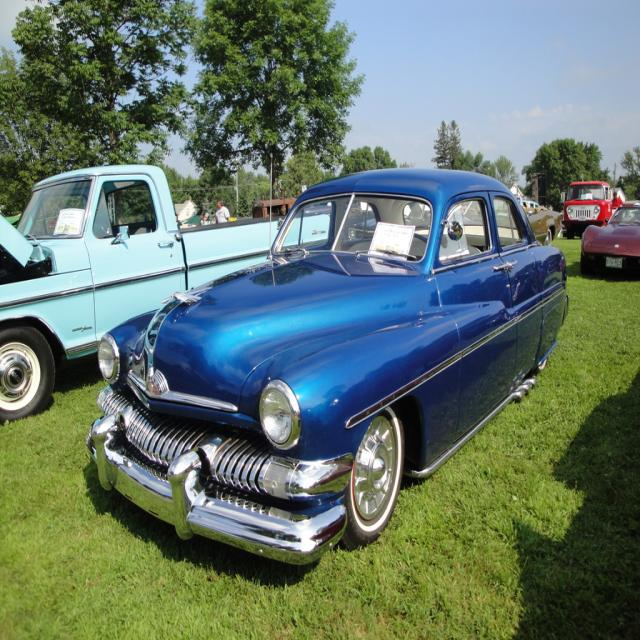car: (83, 146, 568, 565)
